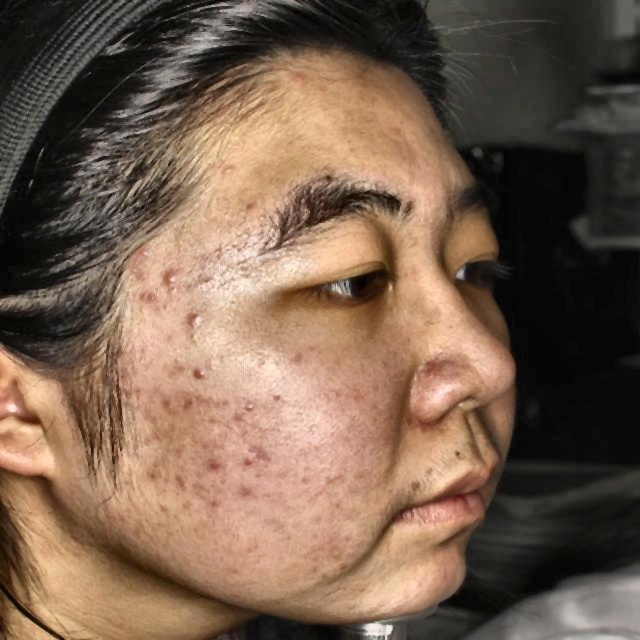pustule: (158, 394, 212, 415), (128, 283, 164, 309), (128, 241, 156, 268), (283, 68, 317, 90), (185, 360, 216, 383), (180, 313, 215, 330), (207, 458, 235, 478), (150, 268, 186, 282)
